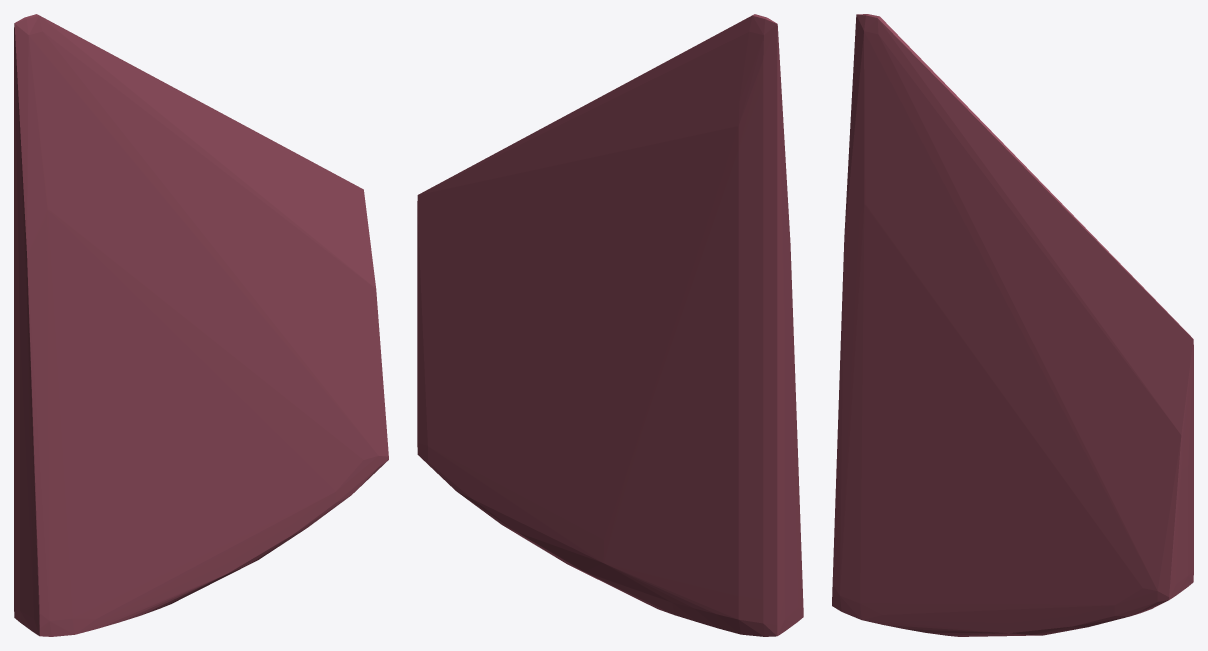
The model's file is left_forearm_0_part_13.obj.
The picture shows the model from 3 angles, left to right: view 1: azimuth 30°, elevation 25°; view 2: azimuth 150°, elevation 25°; view 3: azimuth 330°, elevation 25°; orthographic projection. The views are drawn at different scales.
Size of the model in its own units: 36.16 by 59.96 by 5.79.
